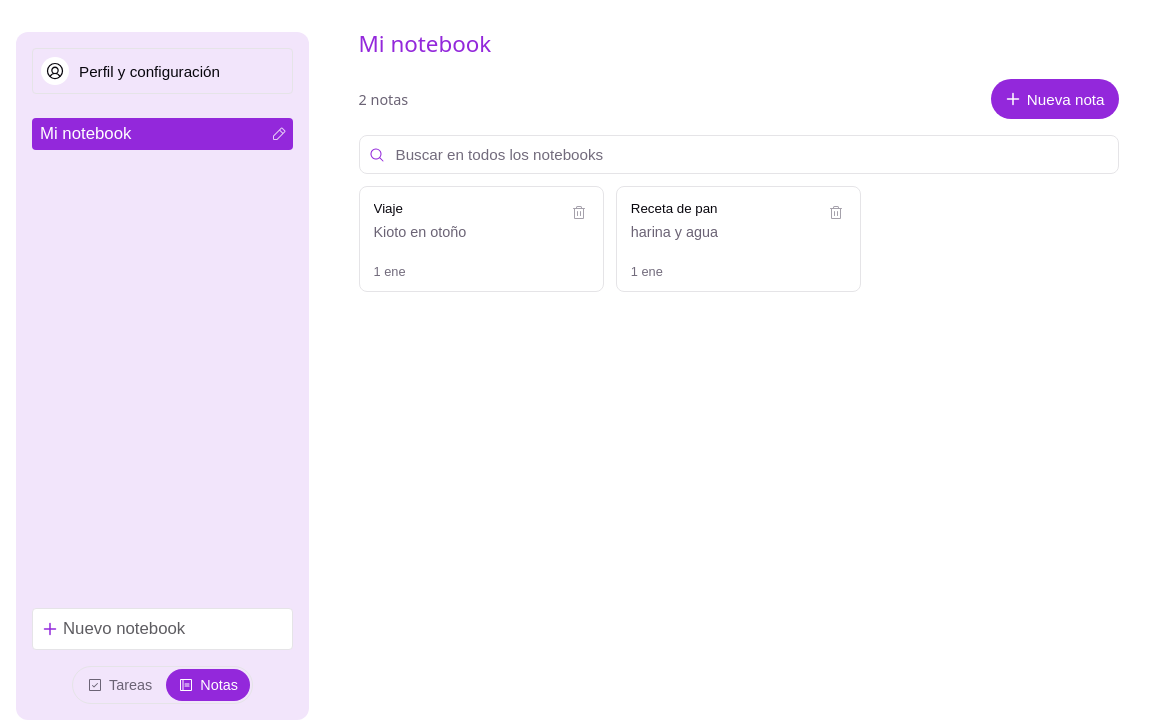
Test: Notes › filters notes with the search input
The width and height of the screenshot is (1152, 720).
Type "kioto" into the search field named "buscar notas" at (738, 155), box [358, 135, 1118, 174]
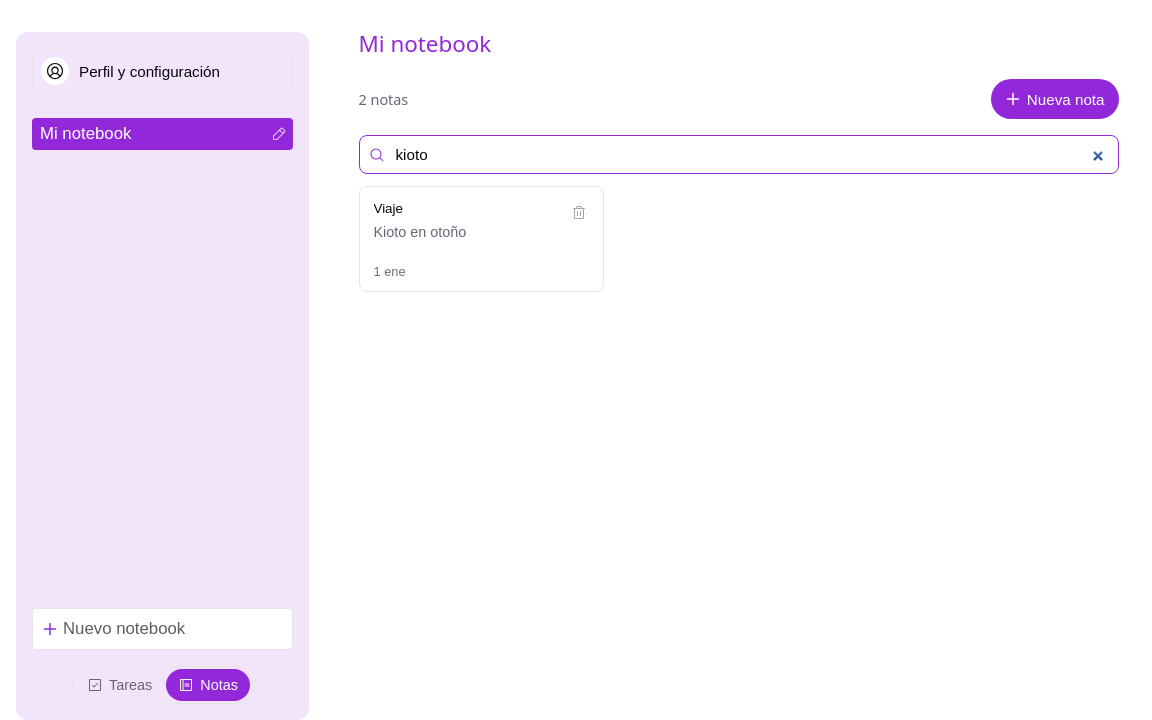
Expected: the text "Viaje" is shown, [374, 201, 403, 216]
Result: the button "Receta de pan" is gone
Replace the text in the search field named "buscar notas" with "zzz" at (738, 155), box [358, 135, 1118, 174]
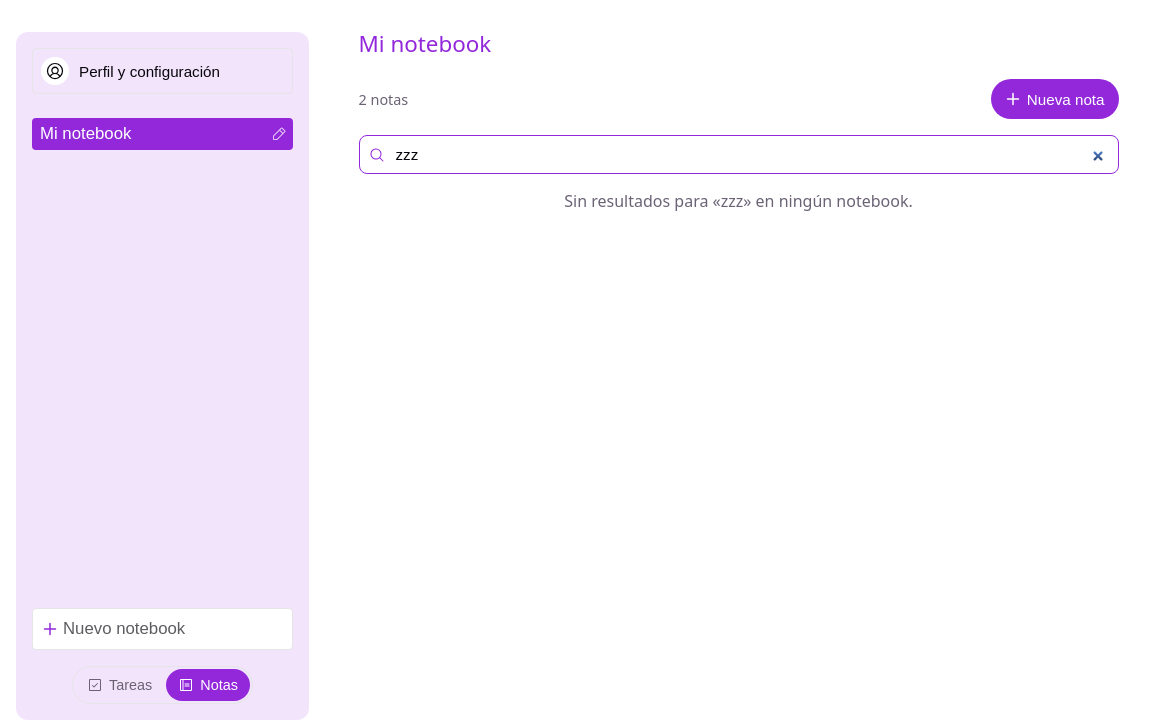
Result: the text "Sin resultados para «zzz» en ningún notebook." is shown at [564, 190, 913, 212]
